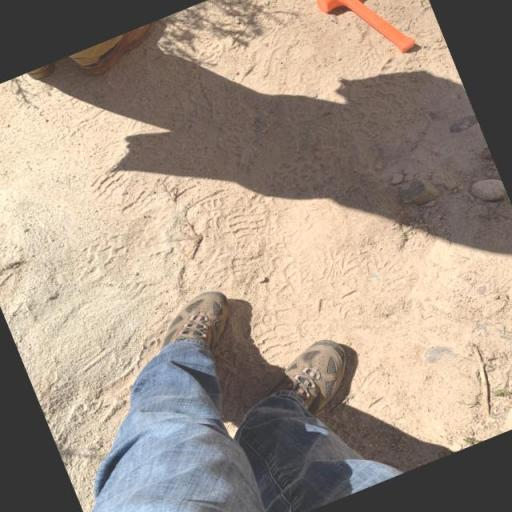mallet: (310, 0, 418, 76)
